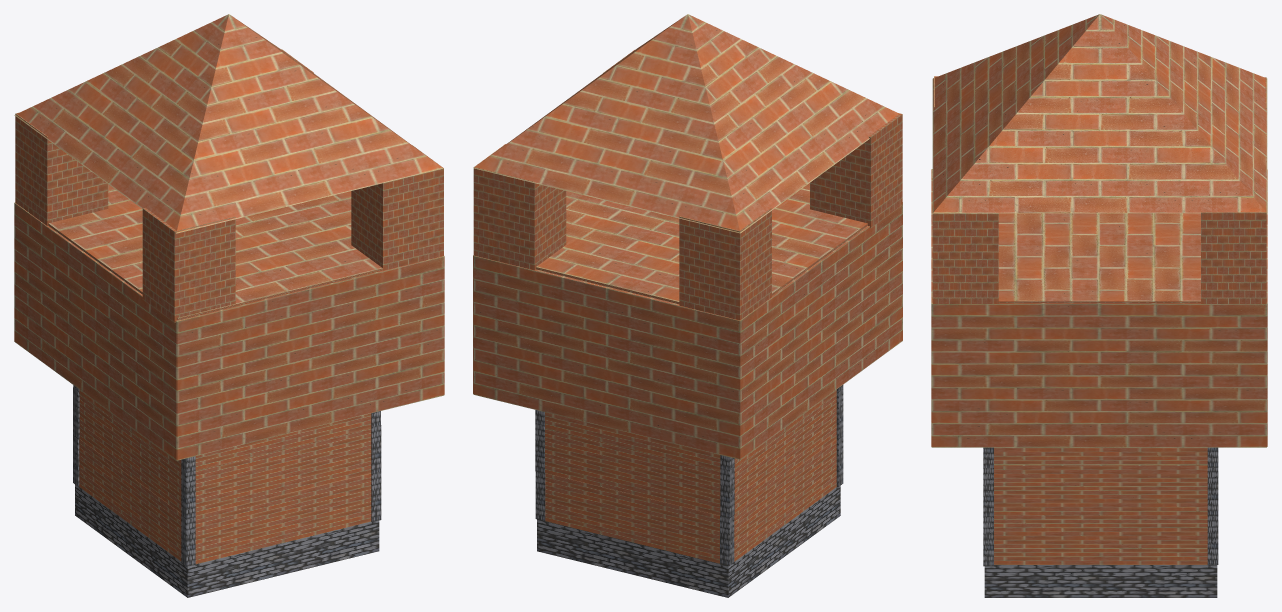
File: Stage.fbx
3 renders of one model, left to right at view 1: azimuth 30°, elevation 25°; view 2: azimuth 150°, elevation 25°; view 3: azimuth 270°, elevation 25°, orthographic. The views are drawn at different scales.
Visible parts, largest first — view 1: Pyramid001, Box150, Box148, Box109, Box008, Box114, Box130, Box115, Box113, Box117, Box004, Box132 (+5 smaller); view 2: Pyramid001, Box151, Box148, Box109, Box116, Box113, Box129, Box112, Box114, Box117, Box003, Box132 (+5 smaller); view 3: Pyramid001, Box149, Box109, Box131, Box118, Box112, Box115, Box141, Box002, Box001, Box126, Box137 (+2 smaller).
Boxes of the visible parts, x1,y1,x2,y2 form: Pyramid001: [14, 14, 443, 233]; Box150: [177, 256, 443, 460]; Box148: [14, 202, 191, 460]; Box109: [48, 184, 382, 320]; Box008: [195, 473, 371, 564]; Box114: [142, 208, 235, 322]; Box130: [195, 428, 371, 515]; Box115: [351, 145, 443, 270]; Box113: [15, 112, 108, 225]; Box117: [79, 439, 181, 561]; Box004: [131, 525, 283, 597]; Box132: [79, 394, 181, 512]; Pyramid001: [474, 14, 899, 233]; Box151: [474, 256, 750, 459]; Box148: [740, 202, 902, 459]; Box109: [536, 183, 867, 303]; Box116: [545, 473, 719, 563]; Box113: [679, 208, 771, 320]; Box129: [545, 428, 720, 515]; Box112: [473, 144, 566, 270]; Box114: [810, 113, 902, 228]; Box117: [734, 439, 836, 561]; Box003: [632, 525, 784, 597]; Box132: [734, 394, 836, 513]; Pyramid001: [932, 14, 1267, 213]; Box149: [931, 294, 1266, 447]; Box109: [998, 213, 1200, 303]; Box131: [994, 465, 1207, 515]; Box118: [994, 515, 1207, 564]; Box112: [1201, 182, 1266, 303]; Box115: [932, 213, 998, 303]; Box141: [994, 447, 1207, 465]; Box002: [1101, 565, 1217, 597]; Box001: [984, 565, 1100, 597]; Box126: [1207, 515, 1218, 564]; Box137: [1207, 467, 1218, 515].
Size of the model in its own units: 12603 by 23260 by 13213.
